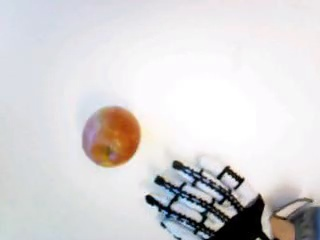apple: (80, 106, 140, 166)
hand: (148, 157, 271, 239)
